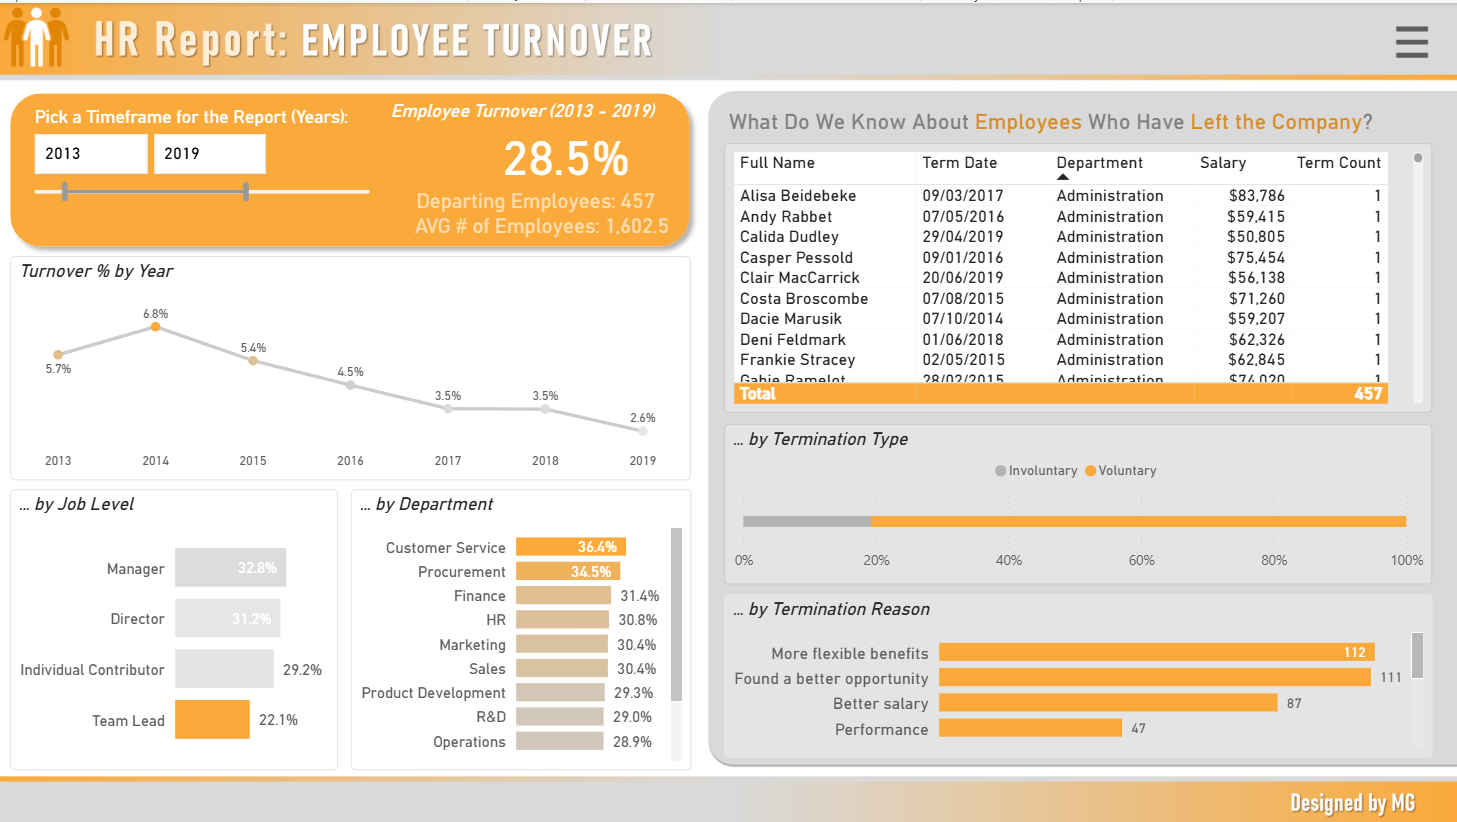

The page's visual inventory and layout, read from the dashboard file:
{"tool":"powerbi","page":{"name":"Turnover","canvas":[1280,720],"ordinal":3},"visuals":[{"type":"card","fields":{"Values":["_Measures.Turnover %"]},"box":[7.1,197.6,235.7,83.3],"z":0},{"type":"slicer","fields":{"Values":["Date.Year"]},"box":[7.1,89.5,262.2,108.1],"z":1000},{"type":"card","fields":{"Values":["_Measures.Departing Employees"]},"box":[7.1,287.9,131.1,83.3],"z":2000},{"type":"card","fields":{"Values":["_Measures.Avg # of Employees"]},"box":[138.2,287.9,131.1,83.3],"z":3000},{"type":"clusteredColumnChart","fields":{"Category":["job_level_dim.job_level"],"Y":["_Measures.Turnover %"]},"box":[0,367.7,262.2,312.7],"z":4000},{"type":"clusteredColumnChart","fields":{"Category":["department_dim.department"],"Y":["_Measures.Turnover %"]},"box":[262.2,367.7,410.2,312.7],"z":5000},{"type":"lineChart","fields":{"Category":["Date.Year"],"Y":["_Measures.Turnover %"]},"box":[269.3,93.9,410.2,273.8],"z":6000},{"type":"tableEx","fields":{"Values":["people_fact.Full Name","people_fact.term_date","department_dim.department","_Measures.Departing Employees"]},"box":[780.5,93.9,459.8,344.6],"z":7000},{"type":"hundredPercentStackedBarChart","fields":{"Y":["_Measures.Departing Employees"],"Series":["term_dim.term_type"]},"box":[780.5,444.7,410.2,132],"z":8000},{"type":"hundredPercentStackedBarChart","fields":{"Category":["term_dim.term_reason"],"Y":["_Measures.Departing Employees"]},"box":[780.5,576.7,410.2,143.5],"z":9000}]}

Visuals, with their boxes in screenshot pixels (x1, y1, x2, y2), scaled from the page's 1280x720 canvas onto the 1457x822 screenshot:
card - _Measures.Turnover %: locate(8, 226, 276, 321)
slicer - Date.Year: locate(8, 102, 307, 226)
card - _Measures.Departing Employees: locate(8, 329, 157, 424)
card - _Measures.Avg # of Employees: locate(157, 329, 307, 424)
clusteredColumnChart - job_level_dim.job_level x _Measures.Turnover %: locate(0, 420, 298, 777)
clusteredColumnChart - department_dim.department x _Measures.Turnover %: locate(298, 420, 765, 777)
lineChart - Date.Year x _Measures.Turnover %: locate(307, 107, 773, 420)
tableEx - people_fact.Full Name x people_fact.term_date: locate(888, 107, 1412, 501)
hundredPercentStackedBarChart - _Measures.Departing Employees x term_dim.term_type: locate(888, 508, 1355, 658)
hundredPercentStackedBarChart - term_dim.term_reason x _Measures.Departing Employees: locate(888, 658, 1355, 821)
